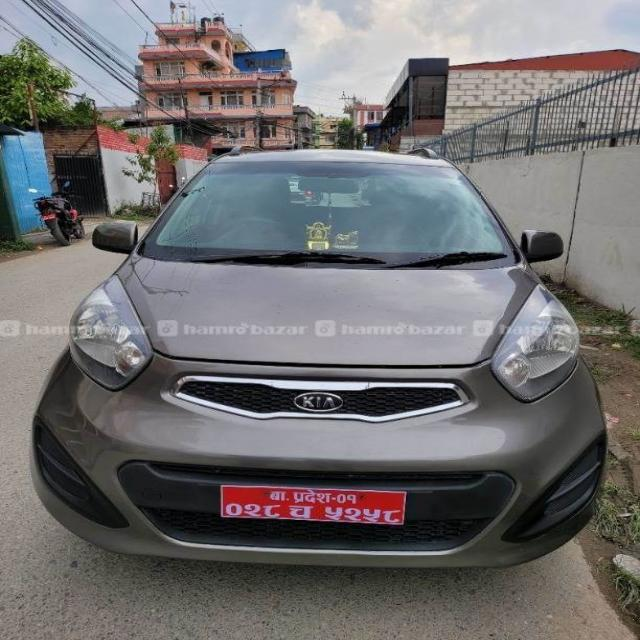License-plate: (215, 482, 410, 532)
